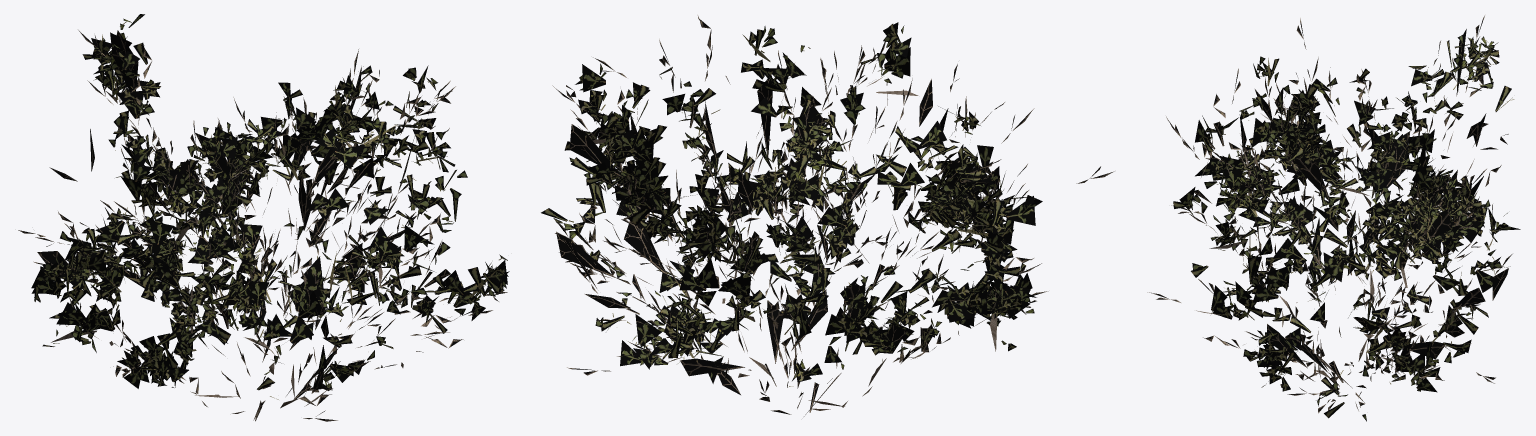
The model's file is chapbig_medium.glb.
3 views of the same model, side by side, from view 1: azimuth 30°, elevation 25°; view 2: azimuth 150°, elevation 25°; view 3: azimuth 270°, elevation 25° (orthographic). The views are drawn at different scales.
Visible parts, largest first — view 1: Cube.015; view 2: Cube.015; view 3: Cube.015.
Part boxes in pixels (x1,y1,x2,y2): Cube.015: [18, 14, 509, 421]; Cube.015: [541, 15, 1114, 416]; Cube.015: [1147, 15, 1520, 421].
Size of the model in its own units: 3.57 by 2.53 by 2.6.
Materials: 3 (3 with a texture image).
